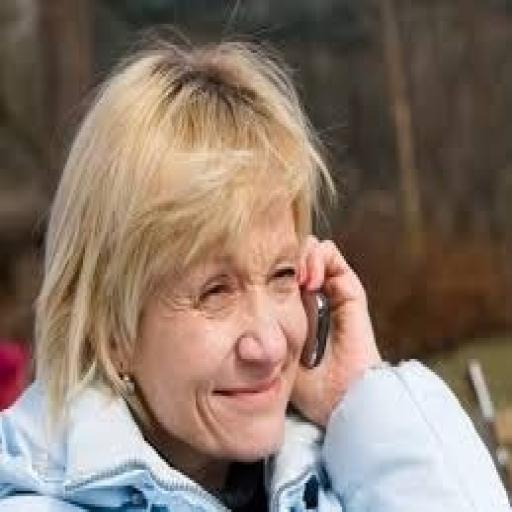calling: (0, 32, 510, 509)
